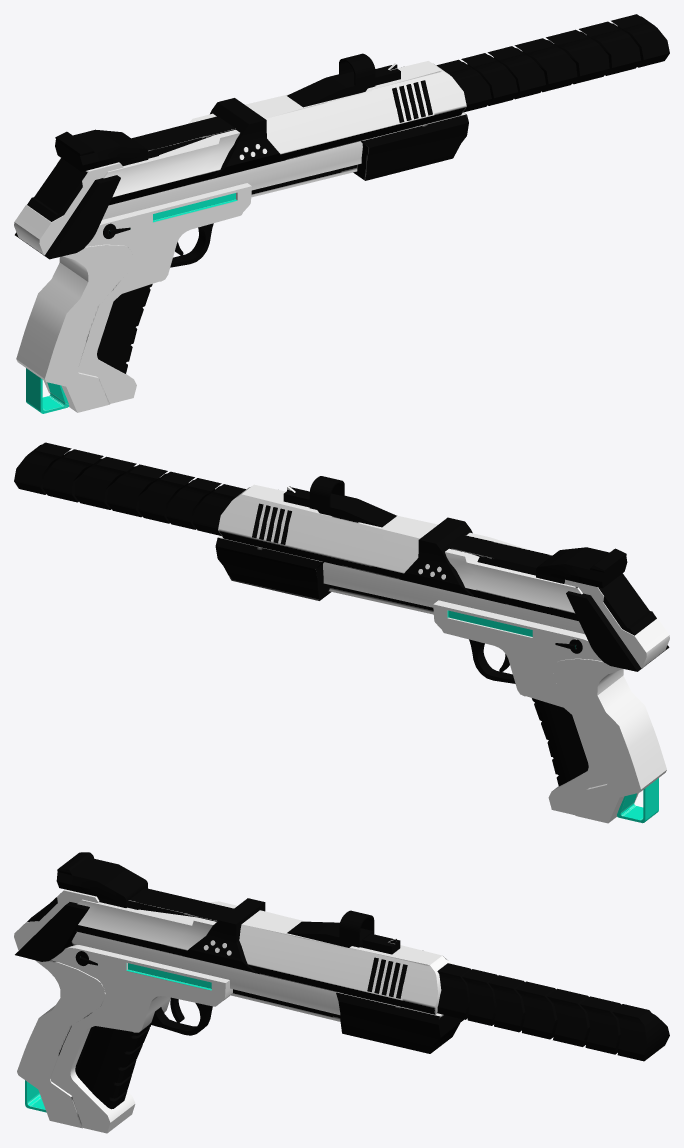
Rendered from B USP.fbx.
3 renders of one model, top to bottom at view 1: azimuth 30°, elevation 25°; view 2: azimuth 150°, elevation 25°; view 3: azimuth 330°, elevation 25°, orthographic. The views are drawn at different scales.
Parts seen in each view (by area): view 1: Cube.001, Cube.002; view 2: Cube.001, Cube.002; view 3: Cube.001, Cube.002.
Part boxes in pixels (box(x1,y1,x2,y2)): Cube.001: box(14, 14, 669, 413); Cube.002: box(103, 53, 466, 205); Cube.001: box(14, 442, 669, 823); Cube.002: box(218, 476, 582, 621); Cube.001: box(14, 852, 669, 1133); Cube.002: box(75, 898, 452, 1014).
Bounding box in the file's own units: 68.86 × 27.86 × 7.32.
Materials: 1 (1 with a texture image).
